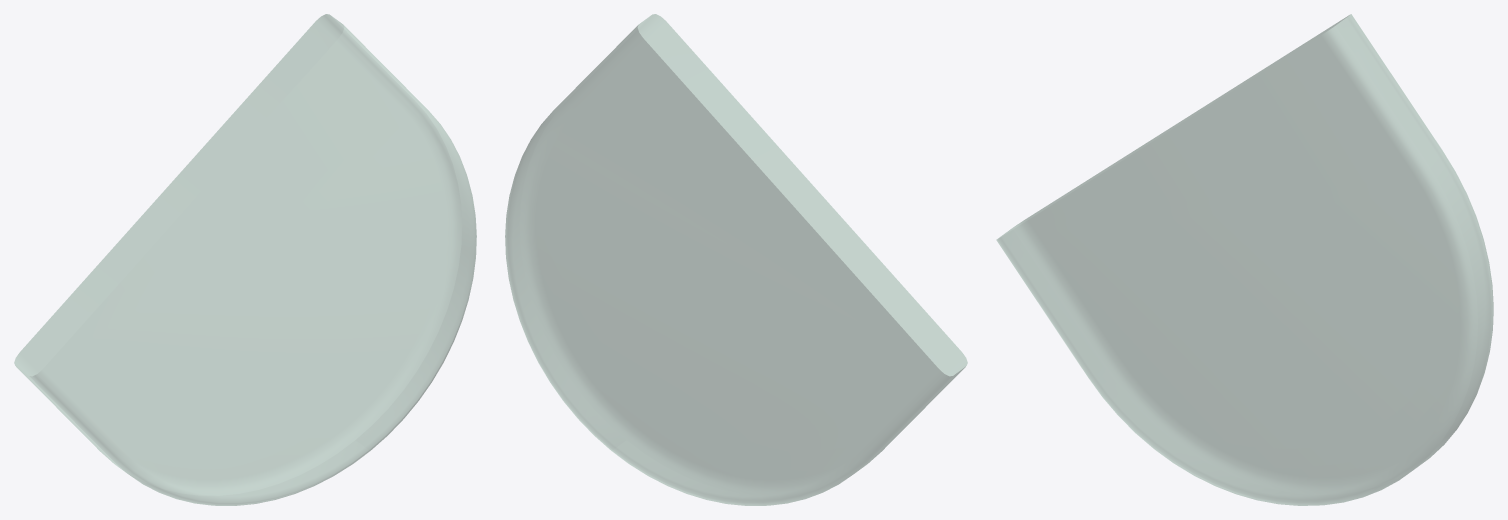
Rendered from A.Item.04.glb.
3 renders of one model, left to right at view 1: azimuth 30°, elevation 25°; view 2: azimuth 150°, elevation 25°; view 3: azimuth 330°, elevation 25°, orthographic. The views are drawn at different scales.
Visible parts, largest first — view 1: A.Item.04; view 2: A.Item.04; view 3: A.Item.04.
Boxes of the visible parts, left/top/right/bottom form: A.Item.04: left=14, top=14, right=476, bottom=505; A.Item.04: left=505, top=14, right=967, bottom=505; A.Item.04: left=996, top=14, right=1493, bottom=505.
Size of the model in its own units: 0.224 by 0.2194 by 0.02.
1 material, 1 textured.
